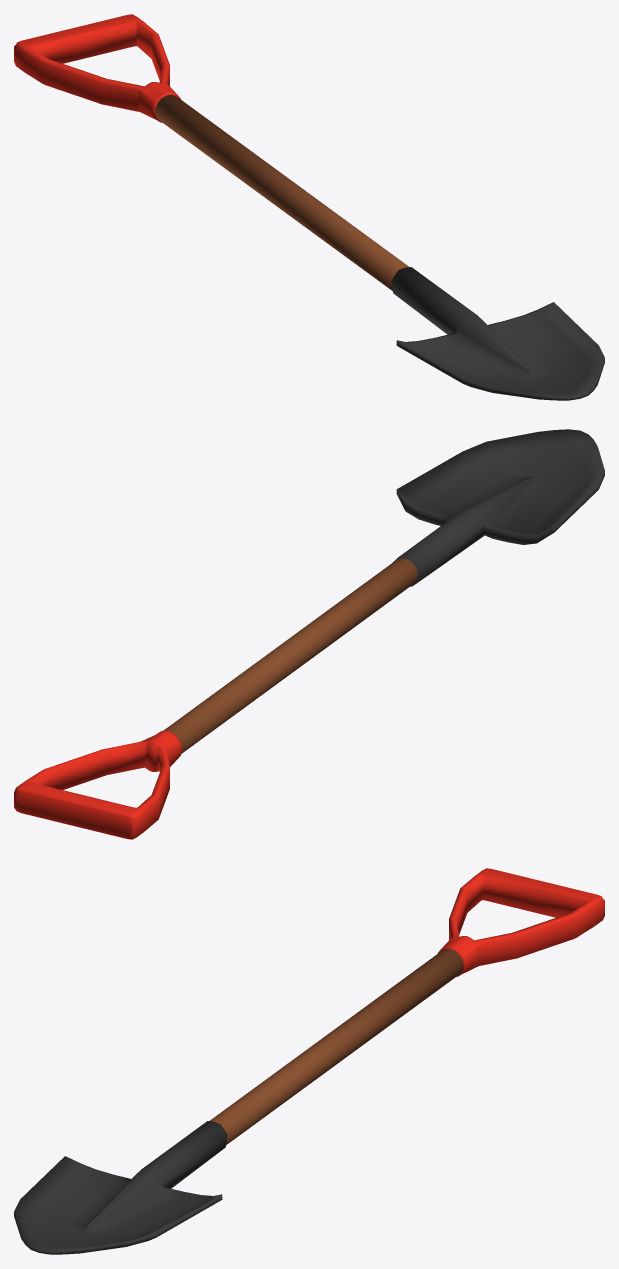
Rendered from shovel.fbx.
3 renders of one model, top to bottom at view 1: azimuth 30°, elevation 25°; view 2: azimuth 150°, elevation 25°; view 3: azimuth 330°, elevation 25°, orthographic.
Parts seen in each view (by area): view 1: Cube, Cylinder, Cube.001; view 2: Cube, Cube.001, Cylinder; view 3: Cube, Cylinder, Cube.001.
Part boxes in pixels (left/top/right/bottom): Cube: left=391, top=267, right=604, bottom=400; Cylinder: left=155, top=94, right=409, bottom=290; Cube.001: left=14, top=14, right=180, bottom=122; Cube: left=392, top=429, right=604, bottom=586; Cube.001: left=14, top=730, right=182, bottom=839; Cylinder: left=164, top=558, right=417, bottom=753; Cube: left=14, top=1121, right=227, bottom=1254; Cylinder: left=209, top=948, right=463, bottom=1144; Cube.001: left=438, top=868, right=604, bottom=976.
Size of the model in its own units: 0.1748 by 0.0315 by 0.9736.
